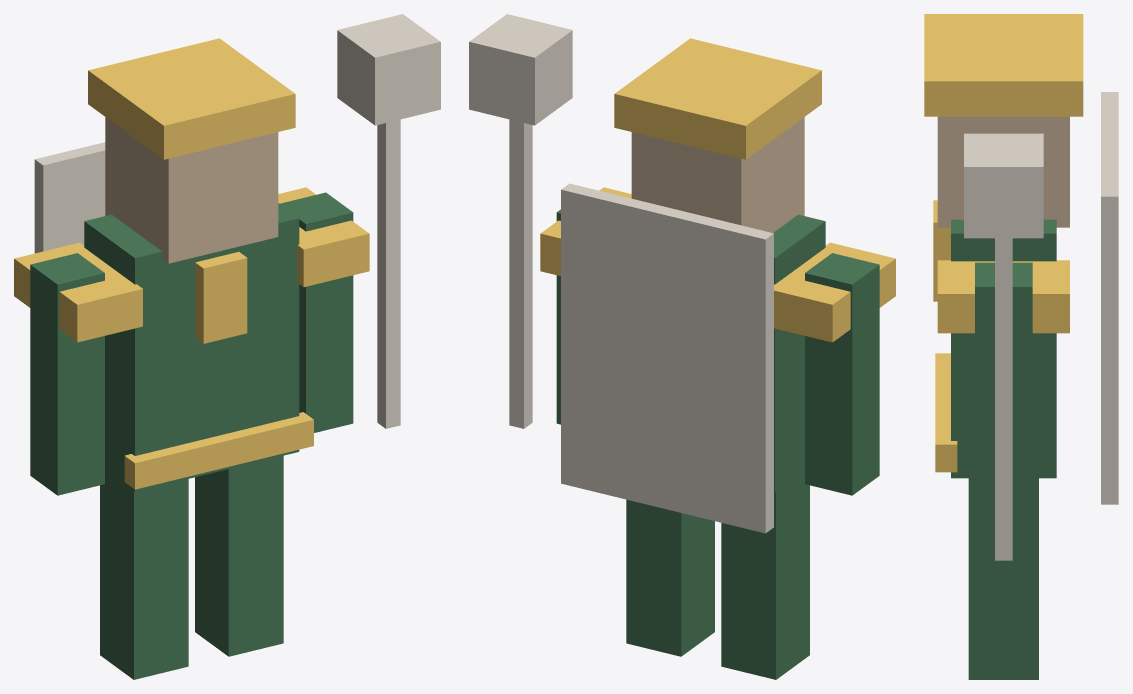
File: 09_tamsin_emberkin_archivist_near.glb
3 views of the same model, side by side, from view 1: azimuth 30°, elevation 25°; view 2: azimuth 150°, elevation 25°; view 3: azimuth 270°, elevation 25° (orthographic). The views are drawn at different scales.
Parts seen in each view (by area): view 1: Tamsin Emberkin, Archivist near; view 2: Tamsin Emberkin, Archivist near; view 3: Tamsin Emberkin, Archivist near.
Boxes of the visible parts, x1,y1,x2,y2 form: Tamsin Emberkin, Archivist near: [14, 14, 440, 679]; Tamsin Emberkin, Archivist near: [469, 14, 895, 679]; Tamsin Emberkin, Archivist near: [924, 14, 1118, 679].
Bounding box in the file's own units: 0.998 × 1.43 × 0.4243.
